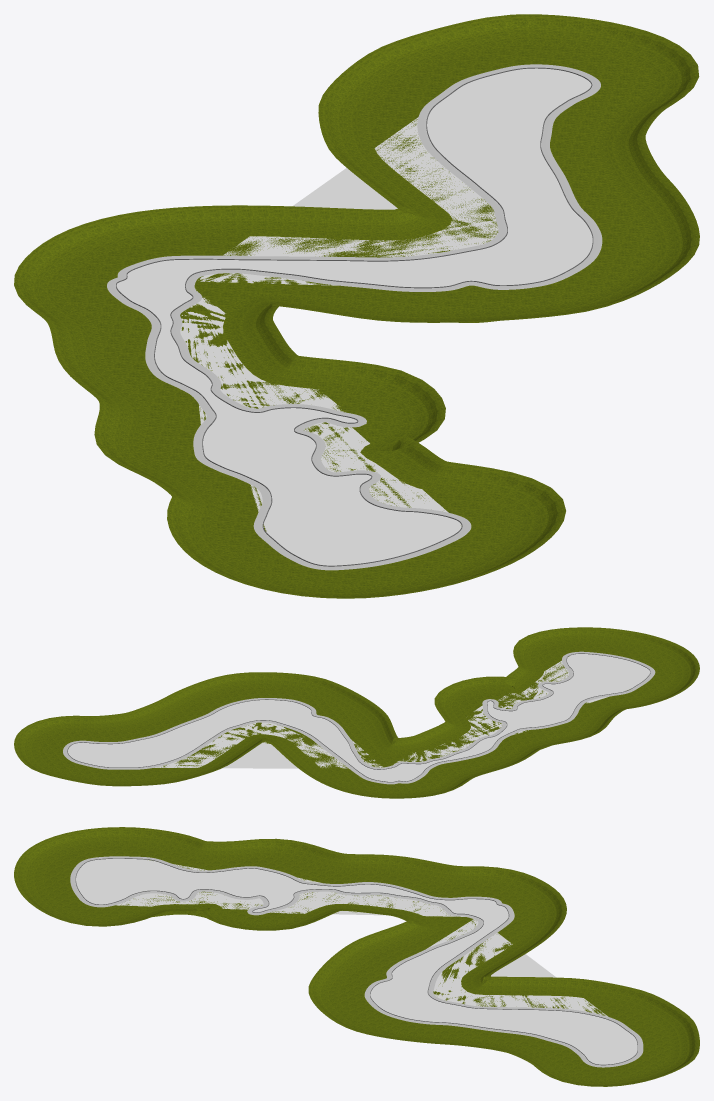
File: Park.fbx
3 views of the same model, one above another, from view 1: azimuth 30°, elevation 25°; view 2: azimuth 150°, elevation 25°; view 3: azimuth 270°, elevation 25° (orthographic). The views are drawn at different scales.
Visible parts, largest first — view 1: HillShape, Lake, Ground, LakePathShape, LakePathBorderShape; view 2: HillShape, Lake, Ground, LakePathShape, LakePathBorderShape; view 3: HillShape, Lake, Ground, LakePathShape, LakePathBorderShape.
Part boxes in pixels (bbox=[...]): HillShape: bbox=[14, 14, 699, 598]; Lake: bbox=[116, 68, 592, 565]; Ground: bbox=[64, 45, 649, 586]; LakePathShape: bbox=[107, 64, 602, 570]; LakePathBorderShape: bbox=[116, 67, 593, 566]; HillShape: bbox=[14, 627, 699, 798]; Lake: bbox=[68, 654, 650, 781]; Ground: bbox=[39, 643, 674, 792]; LakePathShape: bbox=[63, 651, 655, 784]; LakePathBorderShape: bbox=[67, 653, 650, 782]; HillShape: bbox=[14, 827, 699, 1086]; Lake: bbox=[76, 858, 637, 1064]; Ground: bbox=[44, 845, 669, 1079]; LakePathShape: bbox=[70, 856, 643, 1067]; LakePathBorderShape: bbox=[75, 858, 637, 1065].
Bounding box in the file's own units: 42099 × 448 × 46984.
